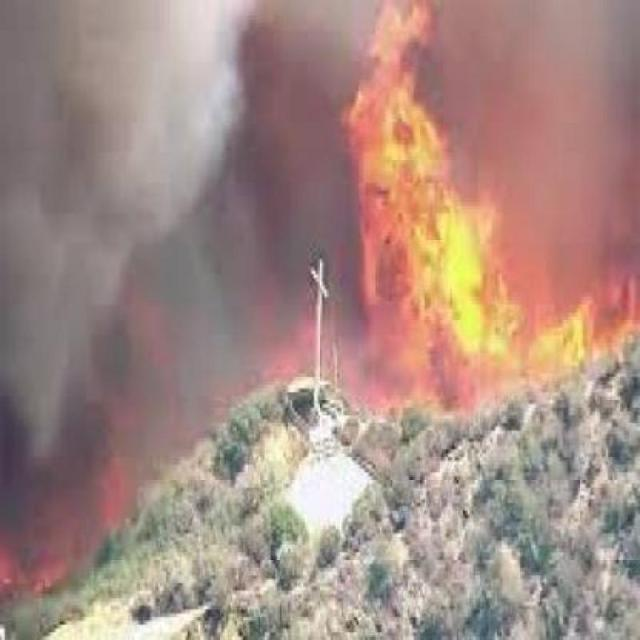Fire: (340, 18, 640, 396)
Smoke: (0, 8, 320, 424)
